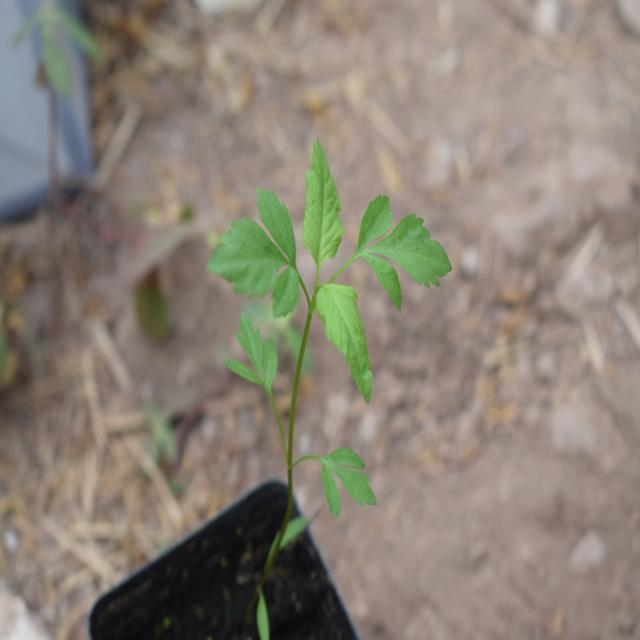Bidens pilosa: (194, 133, 448, 552)
